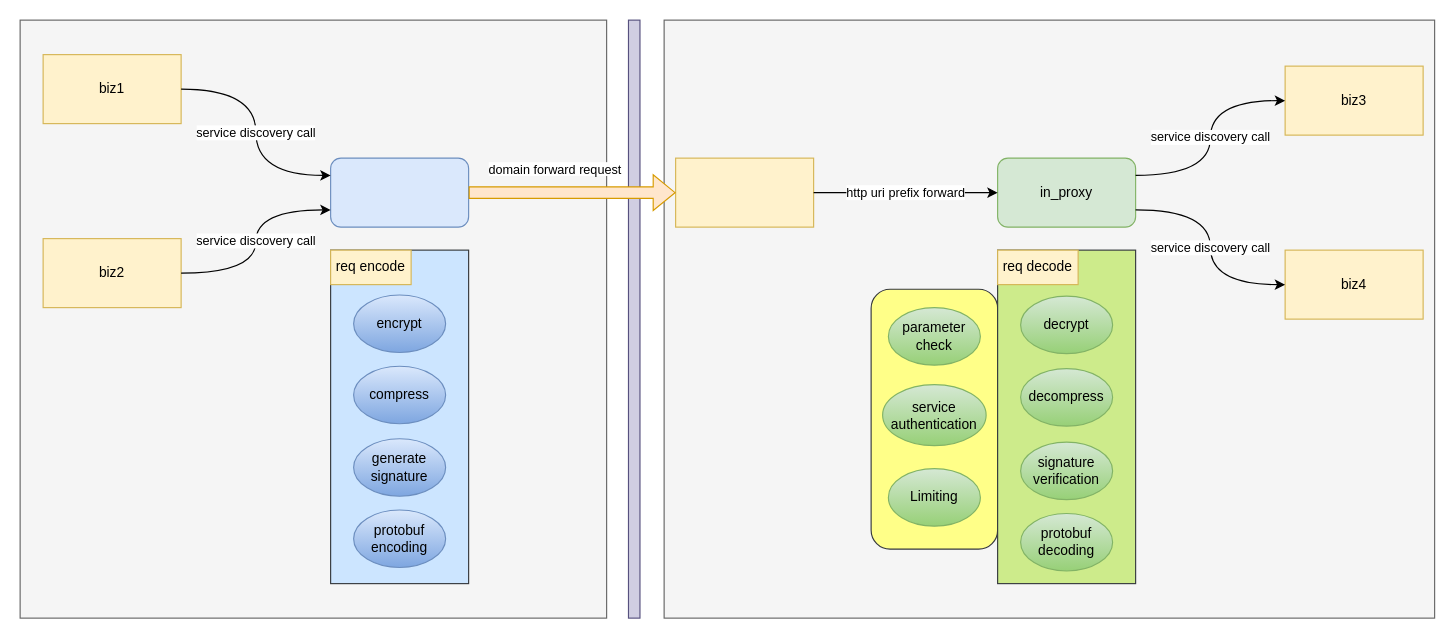
This 1455x638 diagram has some shape labels left out. The shapes that lost their labels are listed below. From the top down, each one's centre as x and y in pixels, then its label:
(x=399, y=192): out_proxy
(x=744, y=192): Nginx
